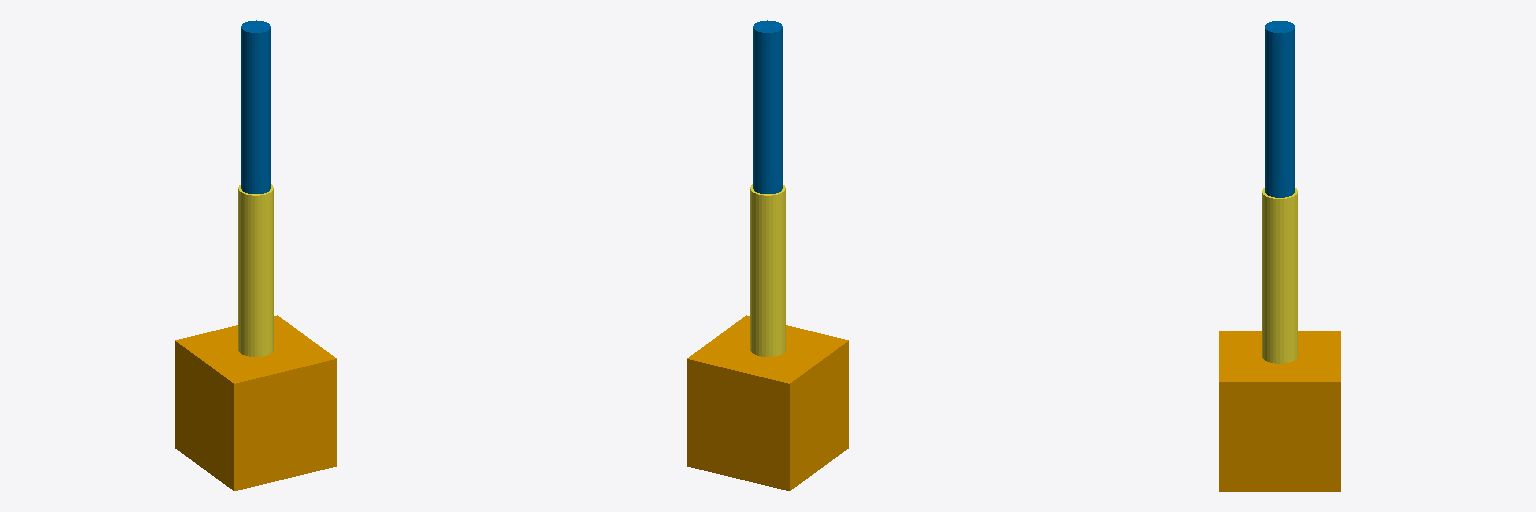
robot.urdf — two_dof_arm:
<?xml version="1.0"?>
<robot name="two_dof_arm">

  <!-- Base link -->
  <link name="arm_base_link">
    <inertial>
      <origin xyz="0 0 0.1" rpy="0 0 0"/>
      <mass value="0.0001"/>
      <inertia ixx="0.00001" ixy="0.0" ixz="0.0"
               iyy="0.00001" iyz="0.0"
               izz="0.00001"/>
    </inertial>

    <visual>
      <origin xyz="0 0 0.1" rpy="0 0 0"/>
      <geometry>
        <box size="0.2 0.2 0.2"/>
      </geometry>
    </visual>

    <collision>
      <origin xyz="0 0 0.1" rpy="0 0 0"/>
      <geometry>
        <box size="0.2 0.2 0.2"/>
      </geometry>
    </collision>
  </link>

  <link name="gimbal_pitch_link">
    <inertial>
      <origin xyz="0 0 0" rpy="0 0 0"/>
      <mass value="0.0001"/>
      <inertia ixx="0.00001" ixy="0.0" ixz="0.0"
               iyy="0.00001" iyz="0.0"
               izz="0.00001"/>
    </inertial>
  </link>

  <joint name="gimbal_pitch_joint" type="revolute">
    <parent link="arm_base_link"/>
    <child link="gimbal_pitch_link"/>
    <origin xyz="0 0 0.2" rpy="0 0 0"/>
    <axis xyz="0 1 0"/>
    <limit lower="-1.57" upper="1.57" effort="5" velocity="1"/>
  </joint>

  <link name="gimbal_roll_link">
    <inertial>
      <origin xyz="0 0 0" rpy="0 0 0"/>
      <mass value="0.0001"/>
      <inertia ixx="0.00001" ixy="0.0" ixz="0.0"
               iyy="0.00001" iyz="0.0"
               izz="0.00001"/>
    </inertial>
  </link>

  <joint name="gimbal_roll_joint" type="revolute">
    <parent link="gimbal_pitch_link"/>
    <child link="gimbal_roll_link"/>
    <origin xyz="0 0 0" rpy="0 0 0"/>
    <axis xyz="1 0 0"/>
    <limit lower="-1.57" upper="1.57" effort="5" velocity="1"/>
  </joint>

  <!-- Link 1 -->
  <link name="link1">
    <inertial>
      <origin xyz="0.0 0 0.15" rpy="0 0 0"/>
      <mass value="0.0001"/>
      <inertia ixx="0.000005" ixy="0.0" ixz="0.0"
               iyy="0.000005" iyz="0.0"
               izz="0.000005"/>
    </inertial>

    <visual>
      <origin xyz="0.0 0 0.15" rpy="0 0 0"/>
      <geometry>
        <cylinder radius="0.03" length="0.3"/>
      </geometry>
    </visual>

    <collision>
      <origin xyz="0.0 0 0.15" rpy="0 0 0"/>
      <geometry>
        <cylinder radius="0.03" length="0.3"/>
      </geometry>
    </collision>
  </link>

  <joint name="joint1" type="revolute">
    <parent link="gimbal_roll_link"/>
    <child link="link1"/>
    <origin xyz="0 0 0" rpy="0 0 0"/>
    <axis xyz="0 1 0"/>
    <limit lower="-3.14" upper="3.14" effort="10" velocity="3"/>
  </joint>

  <!-- Link 2 -->
  <link name="link2">
    <inertial>
      <origin xyz="0.0 0 0.15" rpy="0 0 0"/>
      <mass value="0.0001"/>
      <inertia ixx="0.000003" ixy="0.0" ixz="0.0"
               iyy="0.000003" iyz="0.0"
               izz="0.000003"/>
    </inertial>

    <visual>
      <origin xyz="0.0 0 0.15" rpy="0 0 0"/>
      <geometry>
        <cylinder radius="0.025" length="0.3"/>
      </geometry>
    </visual>

    <collision>
      <origin xyz="0.0 0 0.15" rpy="0 0 0"/>
      <geometry>
        <cylinder radius="0.025" length="0.3"/>
      </geometry>
    </collision>
  </link>

  <joint name="joint2" type="revolute">
    <parent link="link1"/>
    <child link="link2"/>
    <origin xyz="0.0 0 0.3" rpy="0 0 0"/>
    <axis xyz="0 1 0"/>
    <limit lower="-2.0" upper="2.0" effort="10" velocity="3"/>
  </joint>

  <!-- ros2_control -->
  <ros2_control name="GazeboSystem" type="system">
    <hardware>
      <plugin>gazebo_ros2_control/GazeboSystem</plugin>
    </hardware>

    <joint name="joint1">
      <command_interface name="position"/>
      <state_interface name="position"/>
      <state_interface name="velocity"/>
    </joint>

    <joint name="joint2">
      <command_interface name="position"/>
      <state_interface name="position"/>
      <state_interface name="velocity"/>
    </joint>

    <joint name="gimbal_pitch_joint">
      <command_interface name="position"/>
      <state_interface name="position"/>
      <state_interface name="velocity"/>
    </joint>

    <joint name="gimbal_roll_joint">
      <command_interface name="position"/>
      <state_interface name="position"/>
      <state_interface name="velocity"/>
    </joint>
  </ros2_control>

  <!-- Gazebo ros2_control plugin -->
  <gazebo>
    <plugin name="gazebo_ros2_control" filename="libgazebo_ros2_control.so">
      <parameters>
        /home/chris/Documents/MAS_ws_public/install/drone_with_arm/share/drone_with_arm/config/controllers.yaml
      </parameters>
    </plugin>
  </gazebo>

</robot>

--- Facts derived from the render (not from the file) ---
3 views of the same robot in one strip: view 1: azimuth 30°, elevation 25°; view 2: azimuth 150°, elevation 25°; view 3: azimuth 270°, elevation 25° (orthographic).
Robot: two_dof_arm — 5 links, 4 joints (4 revolute); root link arm_base_link; default pose: every joint at zero.
Visible links, largest first — view 1: arm_base_link, link1, link2; view 2: arm_base_link, link1, link2; view 3: arm_base_link, link1, link2.
Link boxes in pixels (bbox=[...]): arm_base_link: bbox=[175, 315, 336, 490]; link1: bbox=[238, 184, 273, 356]; link2: bbox=[241, 20, 270, 193]; arm_base_link: bbox=[687, 315, 848, 490]; link1: bbox=[750, 184, 785, 356]; link2: bbox=[753, 20, 782, 193]; arm_base_link: bbox=[1219, 331, 1340, 491]; link1: bbox=[1262, 188, 1297, 363]; link2: bbox=[1265, 21, 1294, 197].
Size in the robot's own frame: 0.2 by 0.2 by 0.8 metres.
Geometry: primitives only (box / cylinder / sphere), no mesh files.
